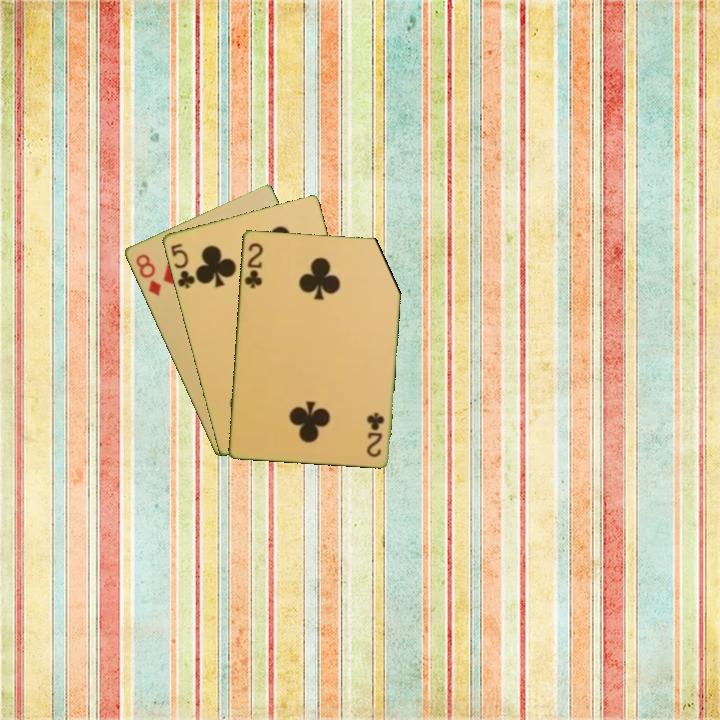2c: (241, 239, 265, 291), (363, 408, 387, 460)
5c: (167, 240, 198, 291)
8d: (132, 250, 164, 299)
